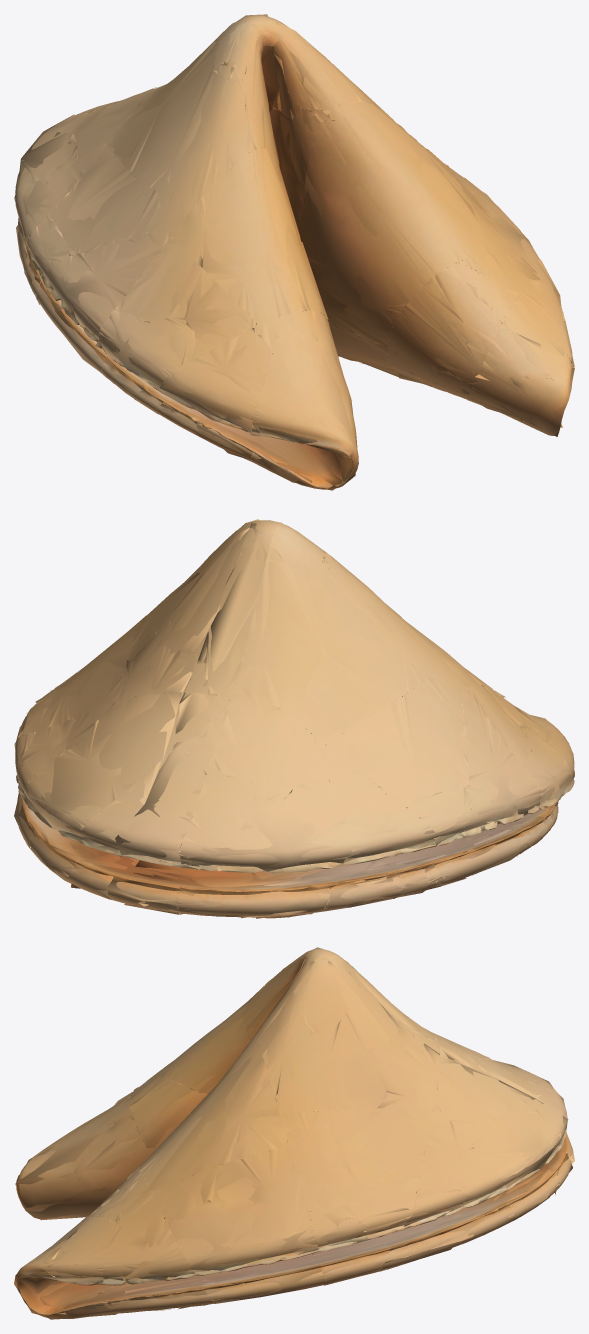
Rendered from cookie.glb.
3 renders of one model, top to bottom at view 1: azimuth 30°, elevation 25°; view 2: azimuth 150°, elevation 25°; view 3: azimuth 270°, elevation 25°, orthographic. The views are drawn at different scales.
Visible parts, largest first — view 1: HalfL, HalfR, HalfL_lod, HalfR_lod; view 2: HalfL, HalfL_lod, HalfR, HalfR_lod; view 3: HalfR, HalfR_lod, HalfL, HalfL_lod.
Boxes of the visible parts, x1,y1,x2,y2 form: HalfL: (15,15,358,489); HalfR: (269,17,572,435); HalfL_lod: (14,14,356,490); HalfR_lod: (271,20,574,436); HalfL: (108,520,574,918); HalfL_lod: (106,522,574,918); HalfR: (15,520,256,898); HalfR_lod: (14,519,259,899); HalfR: (16,960,571,1319); HalfR_lod: (14,961,572,1319); HalfL: (16,948,572,1219); HalfL_lod: (15,947,574,1220).
Bounding box in the file's own units: 0.7736 × 0.5956 × 0.9869.
3 materials, 2 textured.
